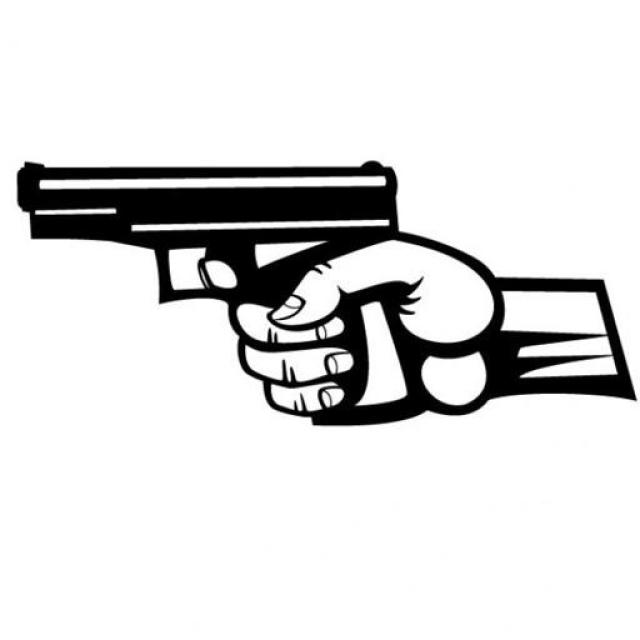pistol: (14, 156, 438, 431)
